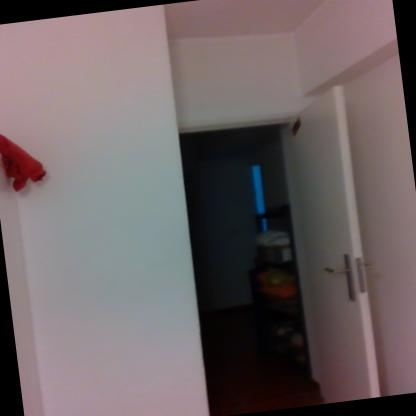open: (170, 74, 394, 415)
